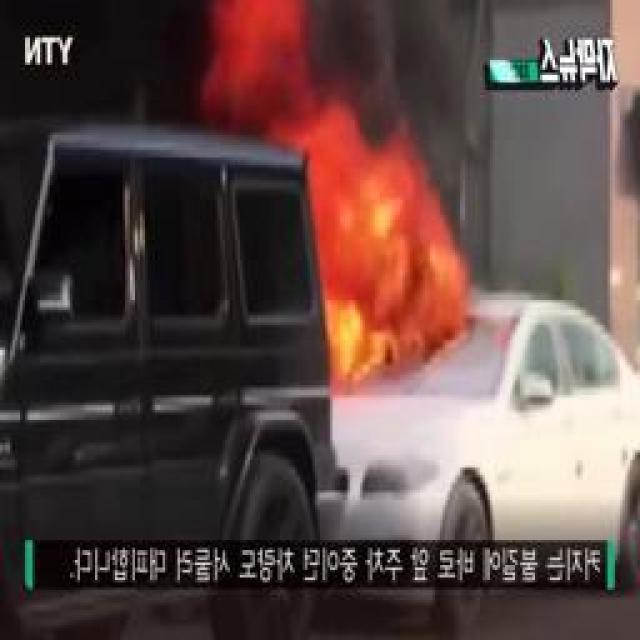Fire: (302, 88, 443, 388)
